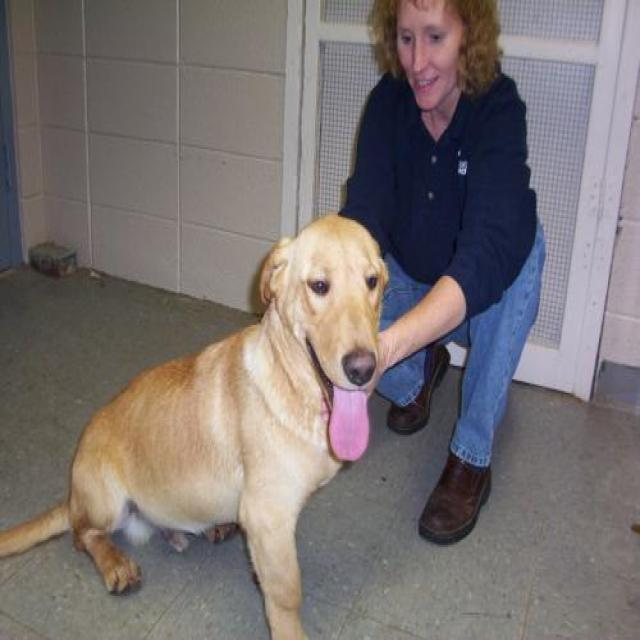Dogs: (0, 212, 389, 638)
